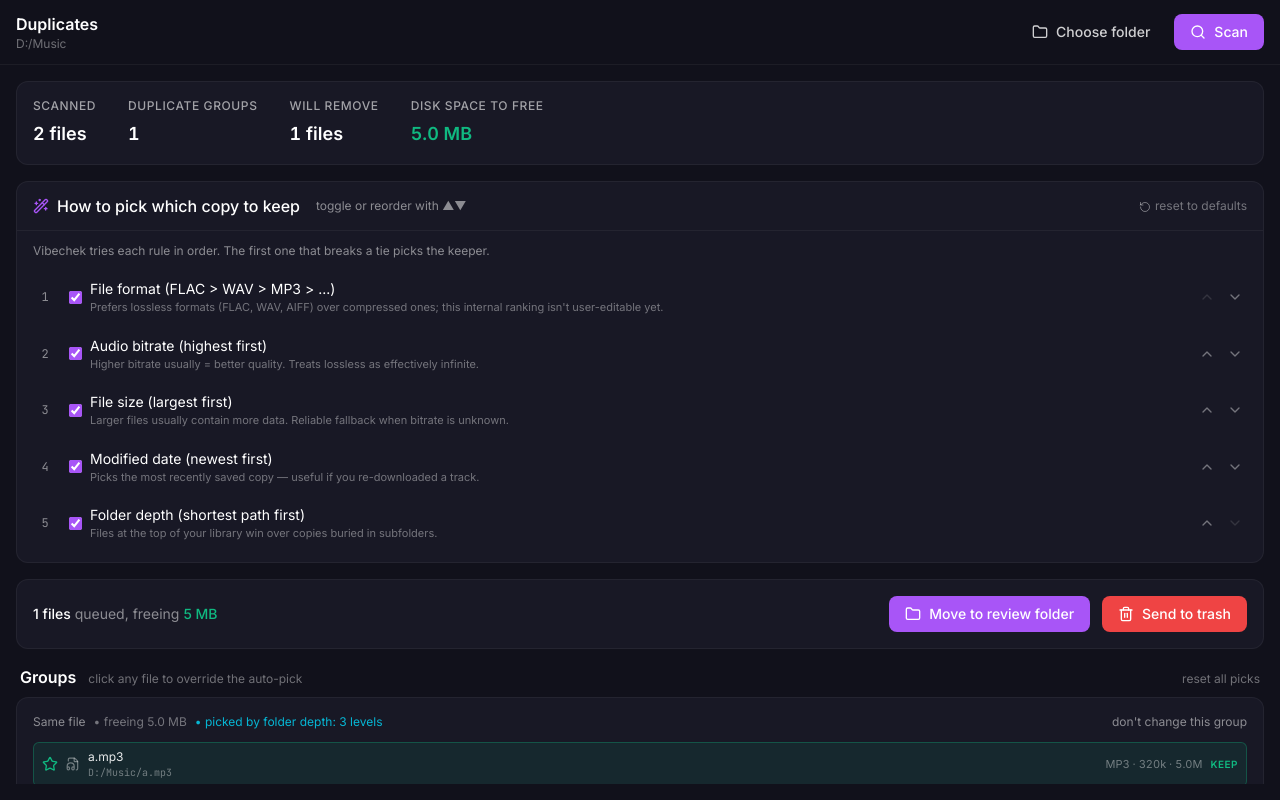
<DuplicatesView /> — partial-failure report › renders the per-file failure list when some files couldn't be moved
Click the button "Move to review folder" at (990, 614), box top-left (889, 596), bottom-right (1090, 632)
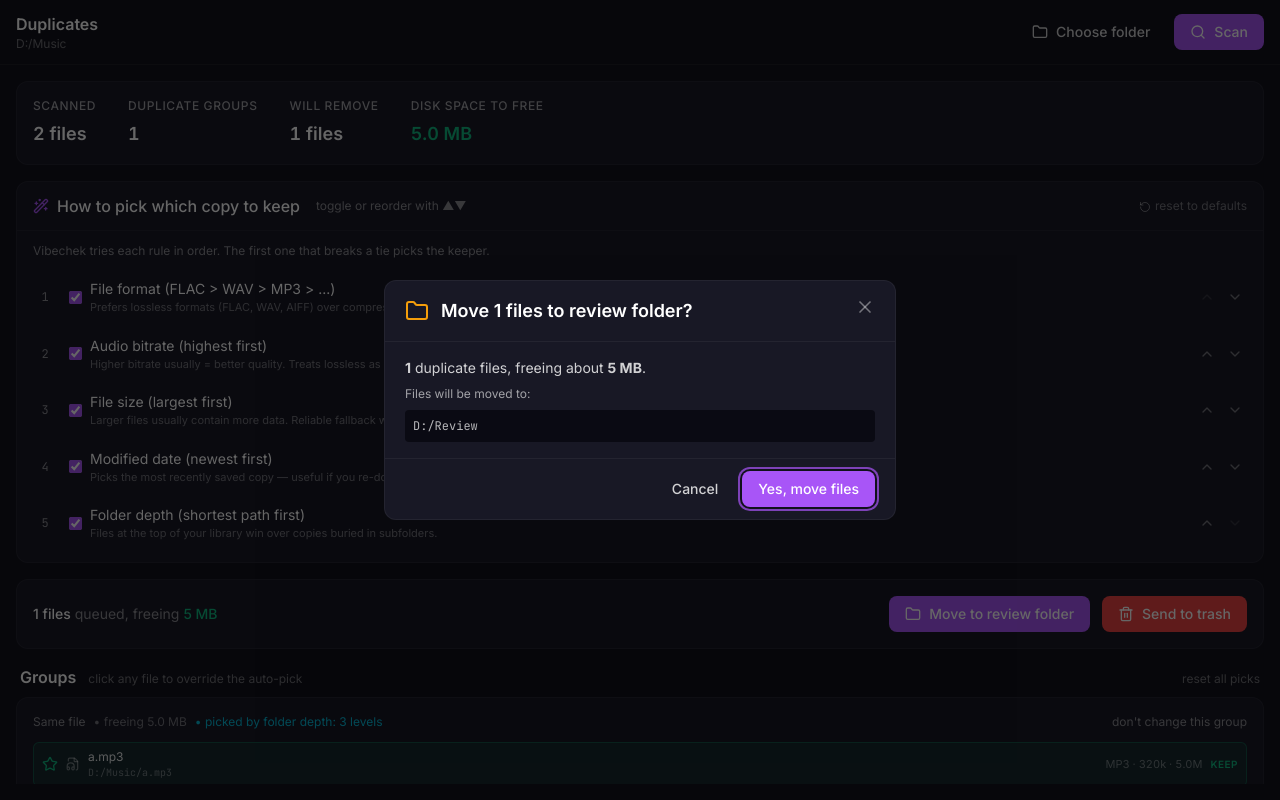
Click the button "Yes, move files" at (809, 489), box top-left (742, 471), bottom-right (875, 507)
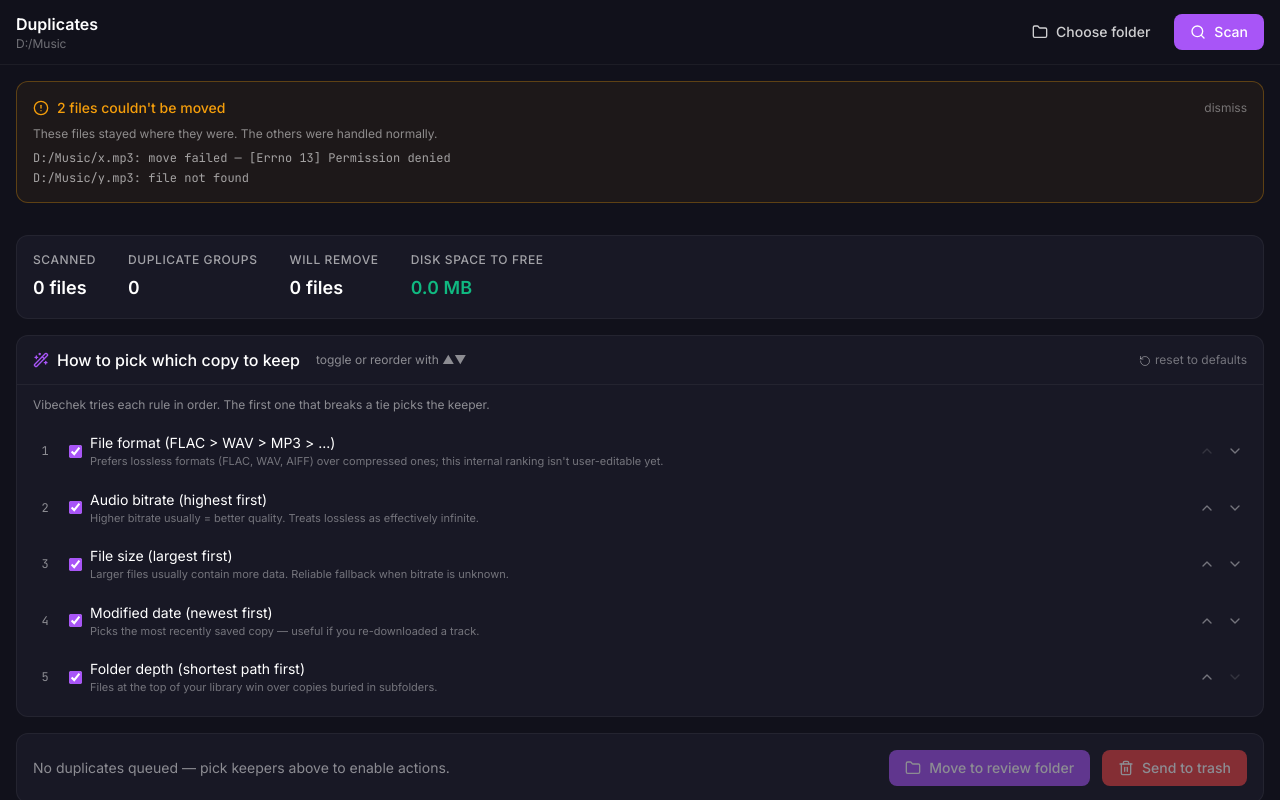
Result: the text "2 files couldn't be moved" is shown at top-left (57, 98), bottom-right (226, 118)
Result: the list item "D:/Music/x.mp3: move failed — [Errno 13] Permission denied" is shown at top-left (33, 150), bottom-right (451, 166)
Result: the list item "D:/Music/y.mp3: file not found" is shown at top-left (33, 170), bottom-right (249, 186)
